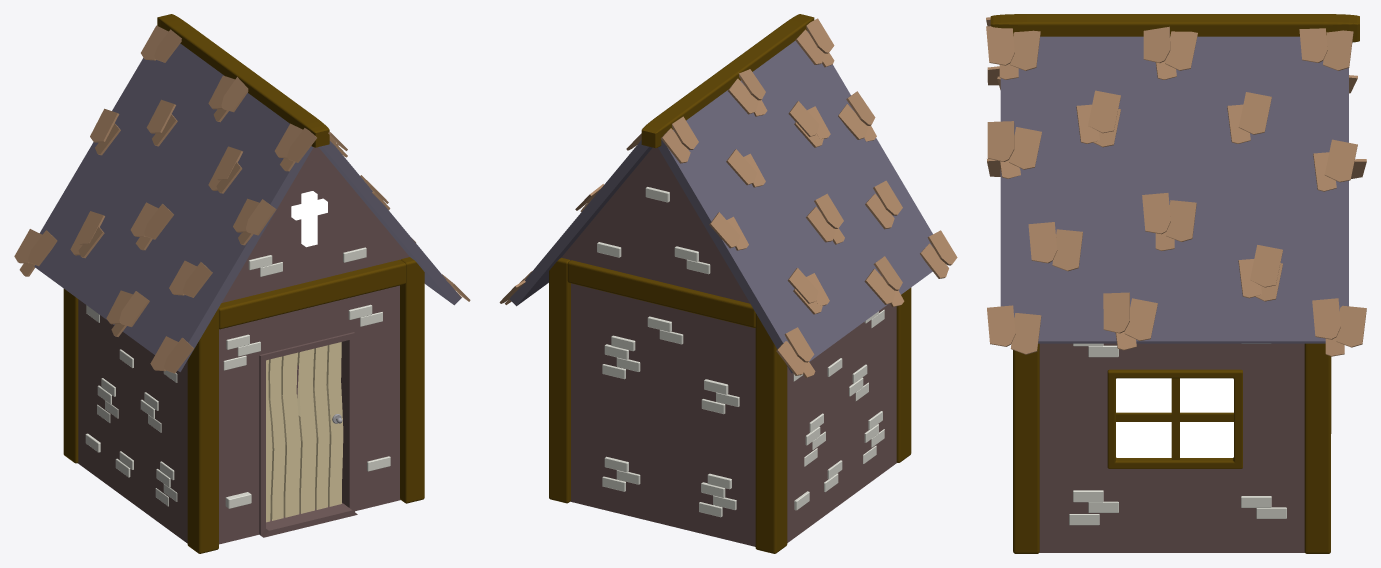
Rendered from house.1b476d98.glb.
The picture shows the model from 3 angles, left to right: view 1: azimuth 30°, elevation 25°; view 2: azimuth 150°, elevation 25°; view 3: azimuth 270°, elevation 25°; orthographic projection. The views are drawn at different scales.
Visible parts, largest first — view 1: house, roof, door, house corner.002, house corner.003, house corner.004, roofbar, house corner.001, cross, rooftile1.012, rooftile1.015, rooftile1.001 (+7 smaller); view 2: house, roof, house corner.001, house corner, house corner.005, roofbar, house corner.002, rooftile1.013, rooftile1.016, rooftile1.002, rooftile1.008, rooftile1.017 (+5 smaller); view 3: roof, house, window glass, roofbar, house corner, house corner.003, window, rooftile1.012, rooftile1.016, rooftile1.015, rooftile1.013, window bar2 (+23 smaller).
Boxes of the visible parts, <box> form: house: <box>78,147,409,544</box>; roof: <box>34,43,461,371</box>; door: <box>266,342,343,522</box>; house corner.002: <box>187,308,219,553</box>; house corner.003: <box>400,257,424,503</box>; house corner.004: <box>219,259,405,329</box>; roofbar: <box>157,14,329,147</box>; house corner.001: <box>63,289,78,463</box>; cross: <box>291,191,327,247</box>; rooftile1.012: <box>246,175,388,235</box>; rooftile1.015: <box>164,274,470,373</box>; rooftile1.001: <box>287,128,347,162</box>; house: <box>561,147,896,546</box>; roof: <box>509,31,933,373</box>; house corner.001: <box>755,313,787,553</box>; house corner: <box>549,257,570,503</box>; house corner.005: <box>567,260,755,327</box>; roofbar: <box>641,14,814,148</box>; house corner.002: <box>896,287,911,462</box>; rooftile1.013: <box>575,184,739,248</box>; rooftile1.016: <box>499,279,805,375</box>; rooftile1.002: <box>626,128,690,163</box>; rooftile1.008: <box>726,149,756,185</box>; rooftile1.017: <box>520,271,814,362</box>; roof: <box>1000,36,1348,343</box>; house: <box>1039,343,1304,552</box>; window glass: <box>1116,378,1233,457</box>; roofbar: <box>990,14,1359,42</box>; house corner: <box>1304,343,1330,553</box>; house corner.003: <box>1013,343,1039,553</box>; window: <box>1107,369,1242,468</box>; rooftile1.012: <box>987,66,1014,161</box>; rooftile1.016: <box>1336,159,1366,347</box>; rooftile1.015: <box>987,158,1015,346</box>; rooftile1.013: <box>1324,75,1357,182</box>; window bar2: <box>1116,412,1233,421</box>.
Size of the model in its own units: 5.54 by 7.01 by 5.12.
